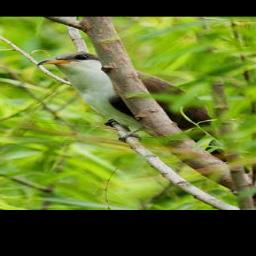Cuckoo: (29, 51, 256, 174)
